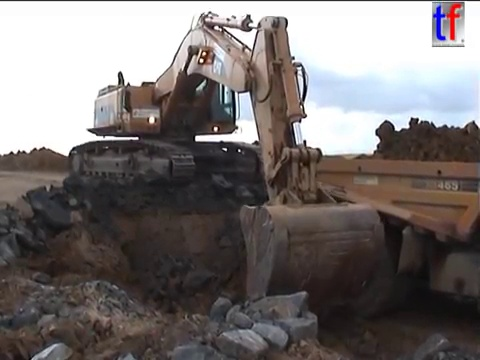excavator: (63, 7, 389, 324)
truck: (270, 154, 479, 322)
